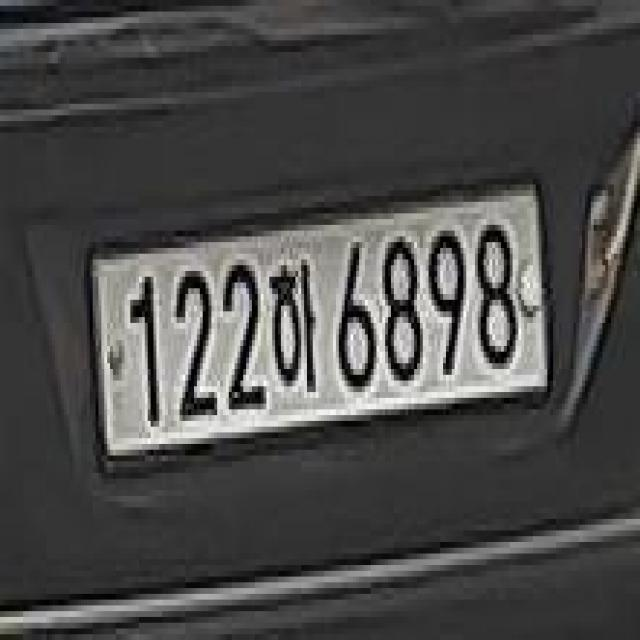illegal_plate: (89, 172, 548, 480)
